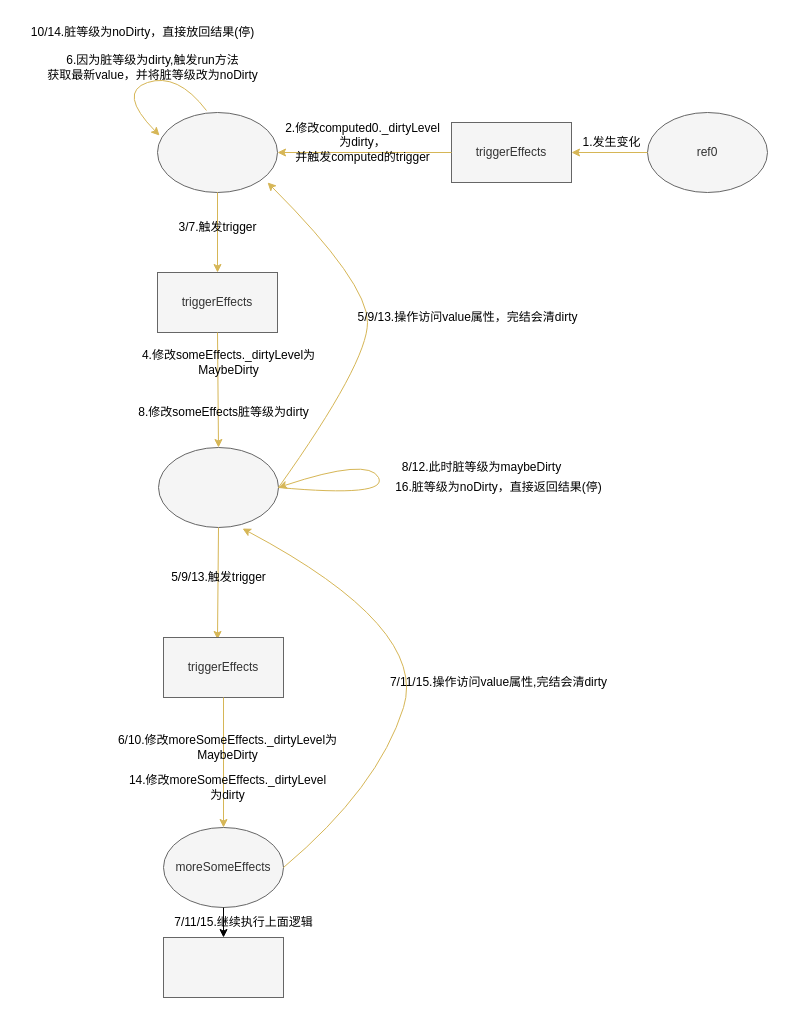
The diagram is 785 pixels wide and 1015 high, and some of its shapes have lost their labels. The centre of each missing label's shape, as x and y in pixels:
"bfs" goes at [223,967].
"computed0" goes at [217,152].
"someEffects" goes at [218,487].
